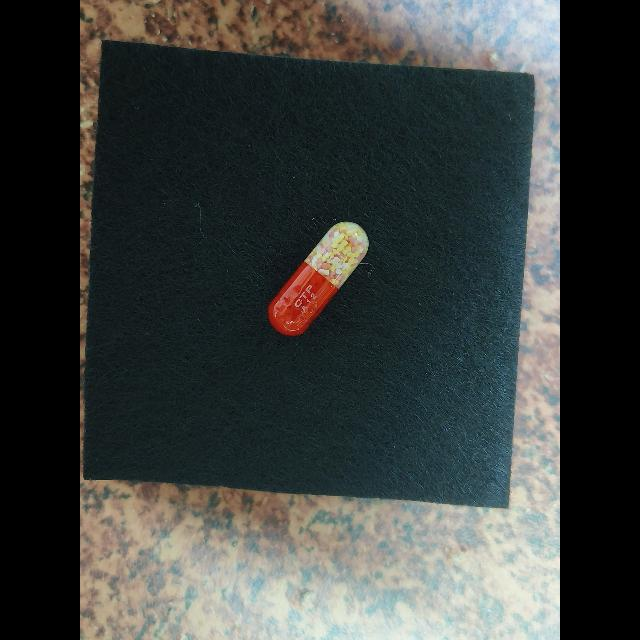Intact Capsule: (268, 222, 369, 336)
